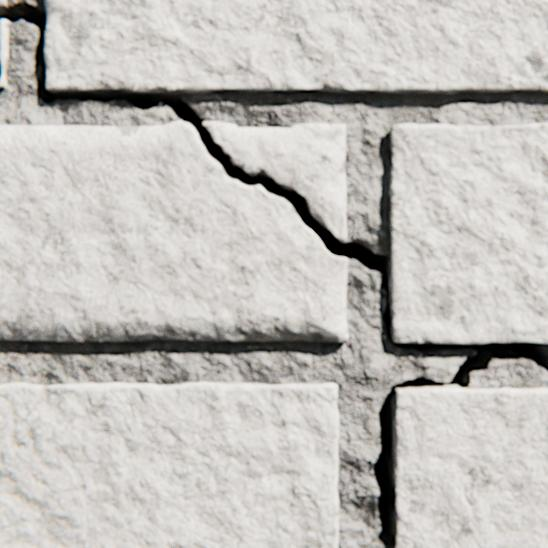brick: (0, 381, 338, 547), (46, 0, 547, 94), (389, 124, 547, 343), (393, 387, 547, 547)
broken_brick: (0, 122, 347, 341), (204, 122, 346, 242), (0, 21, 9, 88), (0, 0, 8, 8)
crack: (0, 2, 547, 547), (0, 59, 3, 82), (0, 89, 4, 95)
